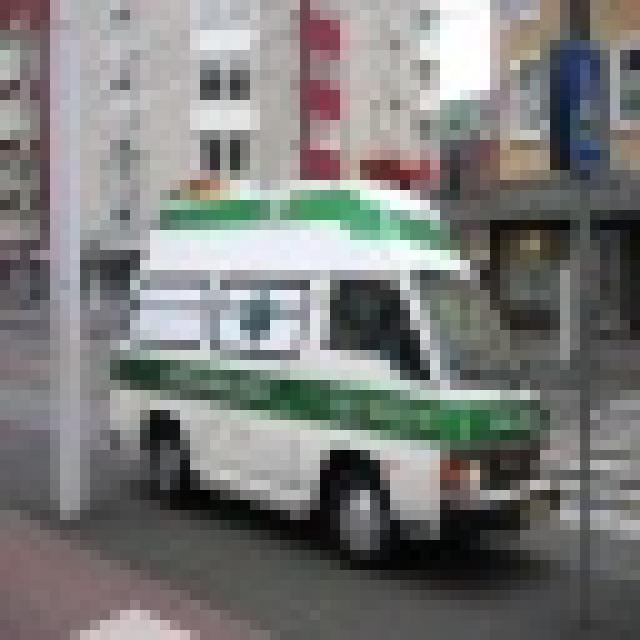Ambulance: (100, 170, 550, 560)
